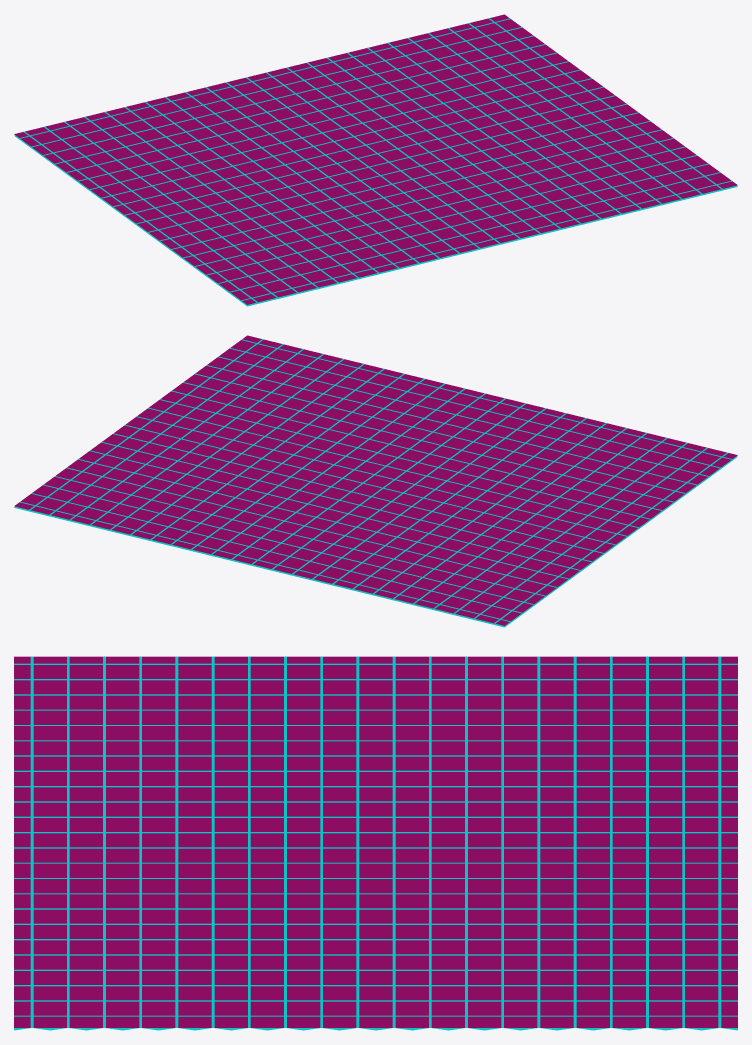
Rendered from desktop_floor.glb.
The picture shows the model from 3 angles, top to bottom: view 1: azimuth 30°, elevation 25°; view 2: azimuth 150°, elevation 25°; view 3: azimuth 270°, elevation 25°; orthographic projection. The views are drawn at different scales.
Parts seen in each view (by area): view 1: Floor, Cross; view 2: Floor, Cross; view 3: Floor, Cross, Depth.001.
Boxes of the visible parts, <box> form: Floor: <box>14,14,737,304</box>; Cross: <box>14,18,737,306</box>; Floor: <box>14,335,737,625</box>; Cross: <box>14,339,737,627</box>; Floor: <box>14,656,737,1027</box>; Cross: <box>14,656,737,1030</box>; Depth.001: <box>14,663,737,664</box>.
Bounding box in the file's own units: 4.86 × 0.0161 × 4.
